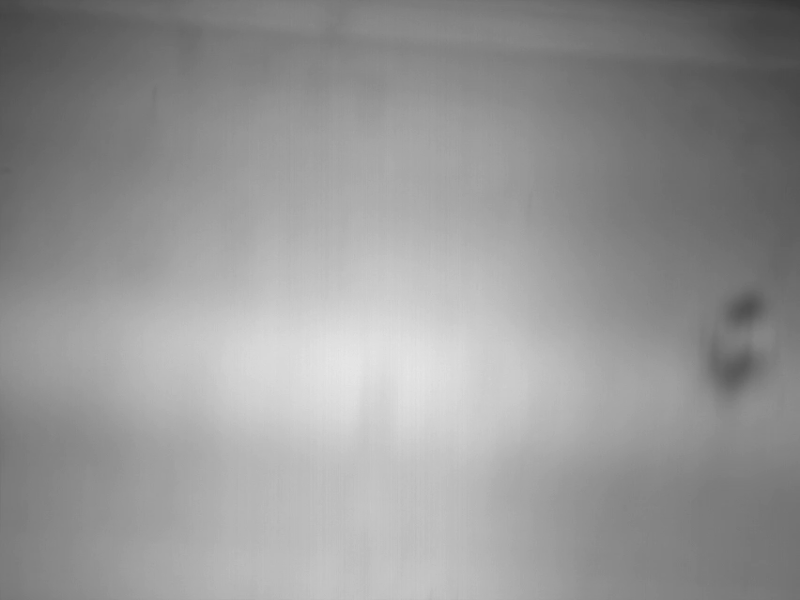bead: (701, 278, 787, 408)
